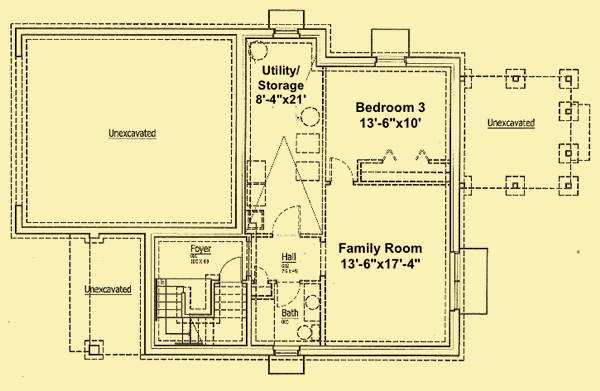door: (268, 202, 306, 236), (325, 156, 355, 185)
stairs: (152, 277, 247, 350)
window: (448, 252, 462, 311)
